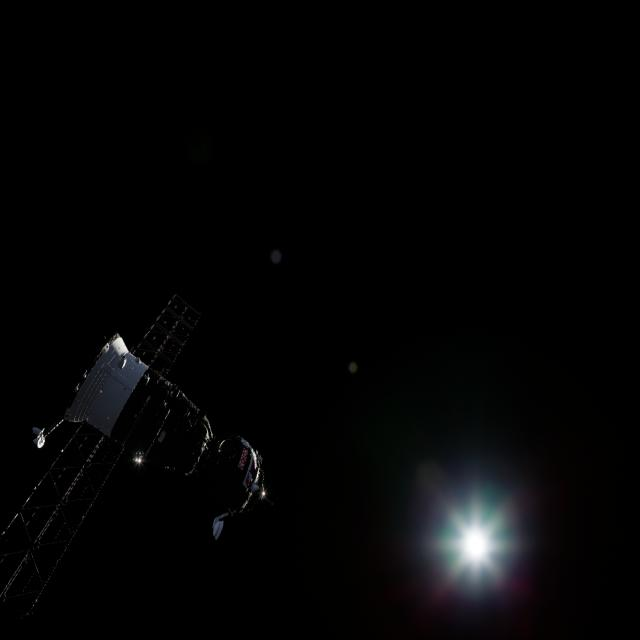Satellites revolving around earth: (1, 291, 269, 618)
